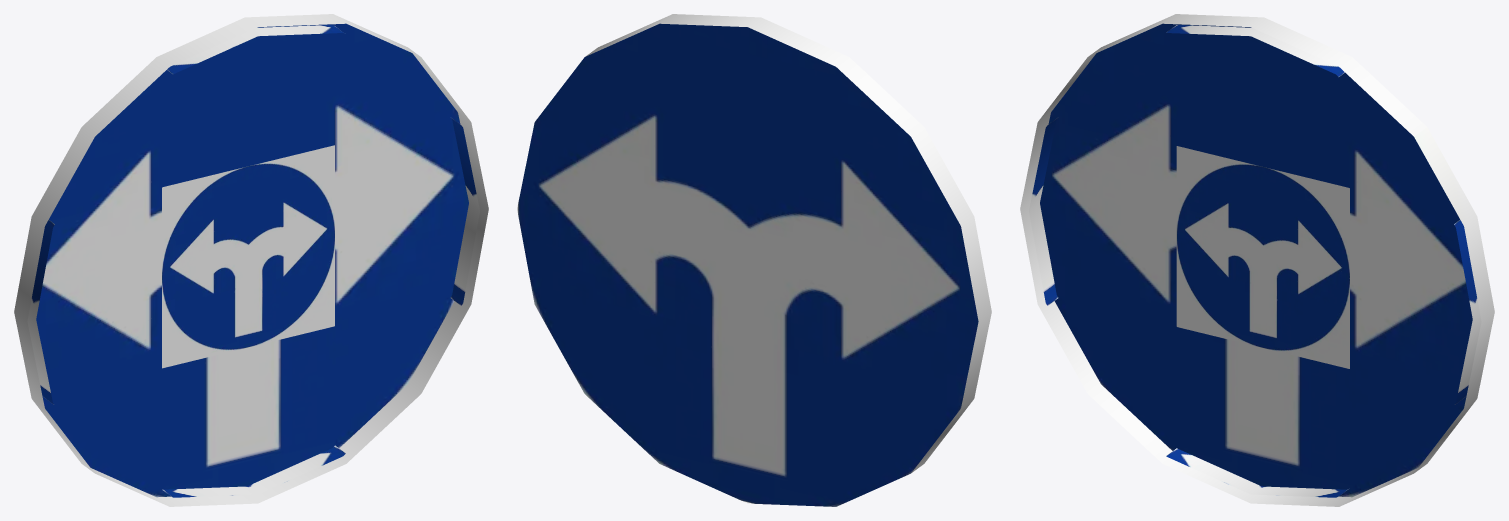
File: lewoprawo.fbx
The picture shows the model from 3 angles, left to right: view 1: azimuth 30°, elevation 25°; view 2: azimuth 150°, elevation 25°; view 3: azimuth 330°, elevation 25°; orthographic projection.
Visible parts, largest first — view 1: Prohibition_MaximumHeight_LOD0; view 2: Prohibition_MaximumHeight_LOD0; view 3: Prohibition_MaximumHeight_LOD0.
Boxes of the visible parts, bbox=[...] form: Prohibition_MaximumHeight_LOD0: bbox=[14, 14, 488, 506]; Prohibition_MaximumHeight_LOD0: bbox=[517, 14, 991, 506]; Prohibition_MaximumHeight_LOD0: bbox=[1020, 14, 1494, 506].
Bounding box in the file's own units: 70.96 × 70 × 3.55.
